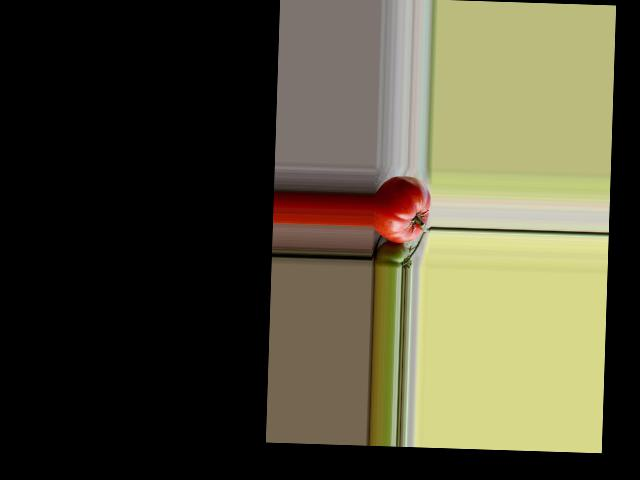tomato: (371, 174, 431, 243)
